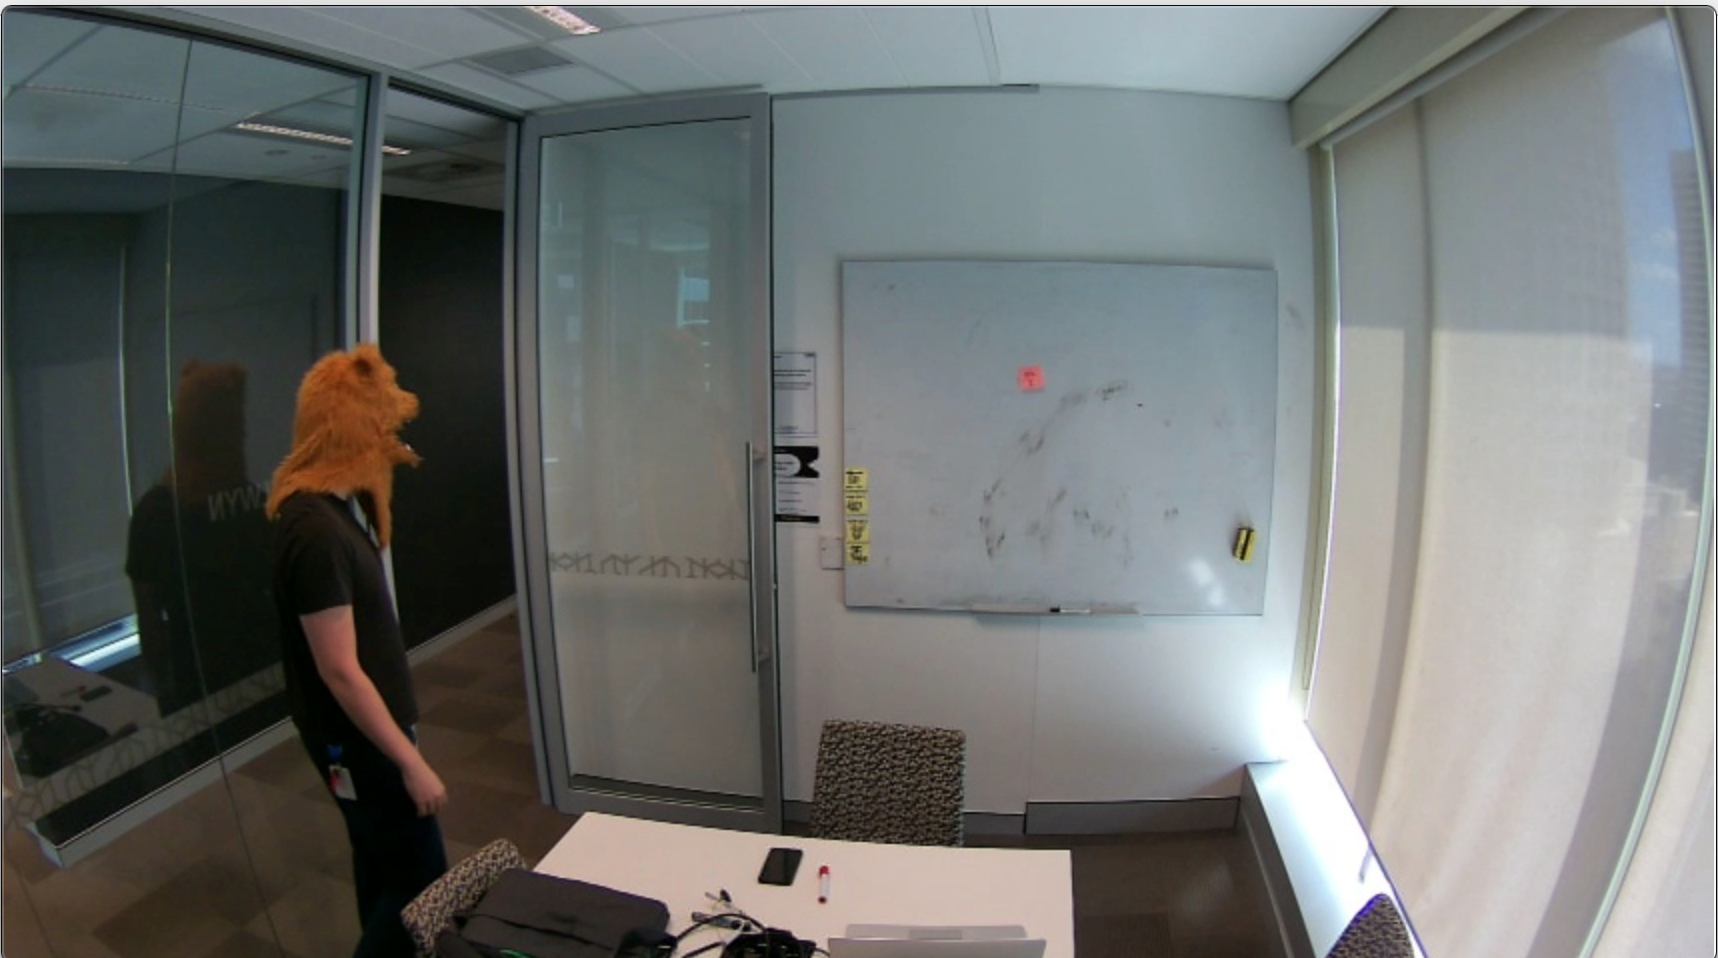Bear: (290, 341, 424, 477)
